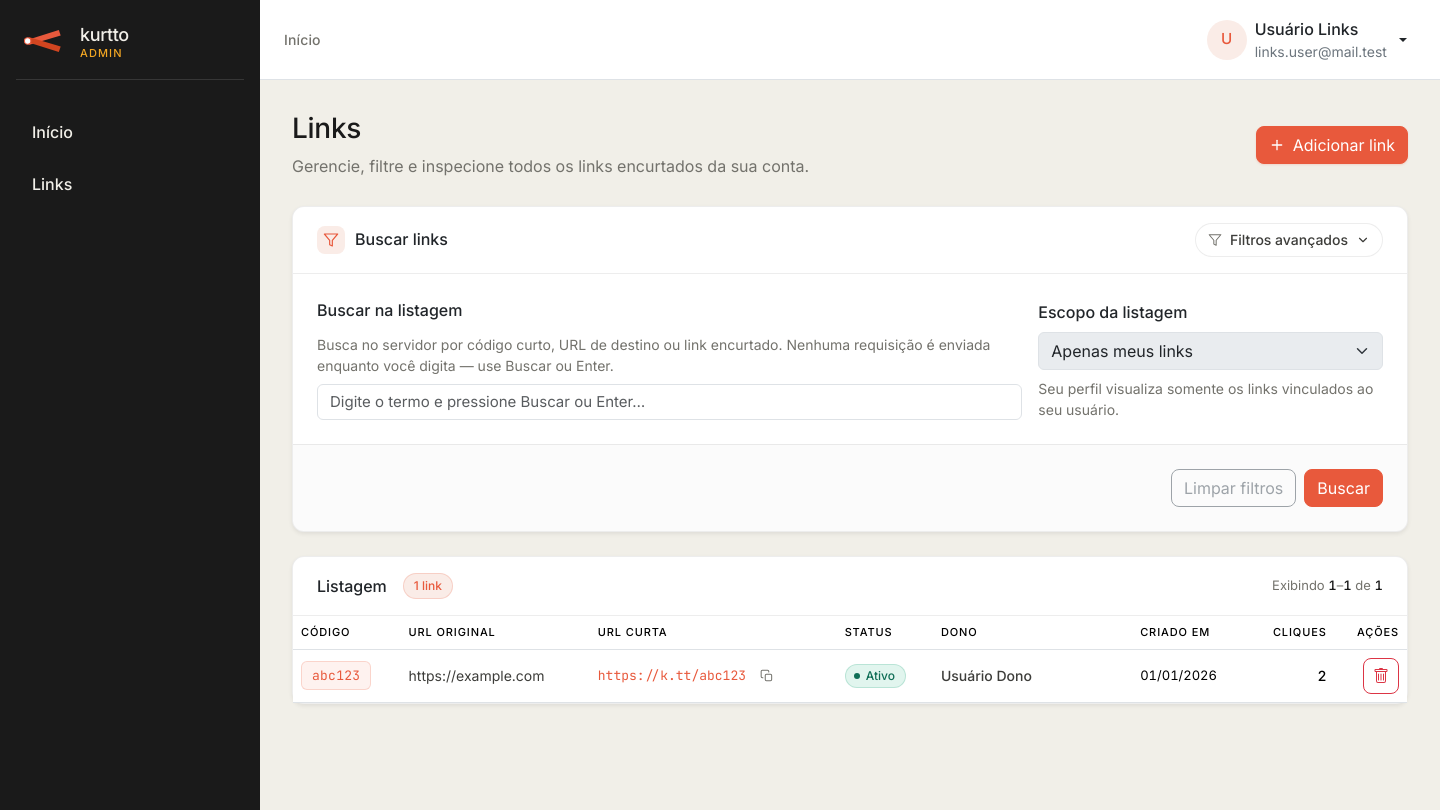
Test: Links › copia a URL curta ao clicar no botão de copiar e exibe feedback de sucesso
Expected: the link "https://example.com" is shown, [409,667,545,684]
Click the button named "copiar url curta https://k.tt/abc123": (767, 676) [754,663,780,689]
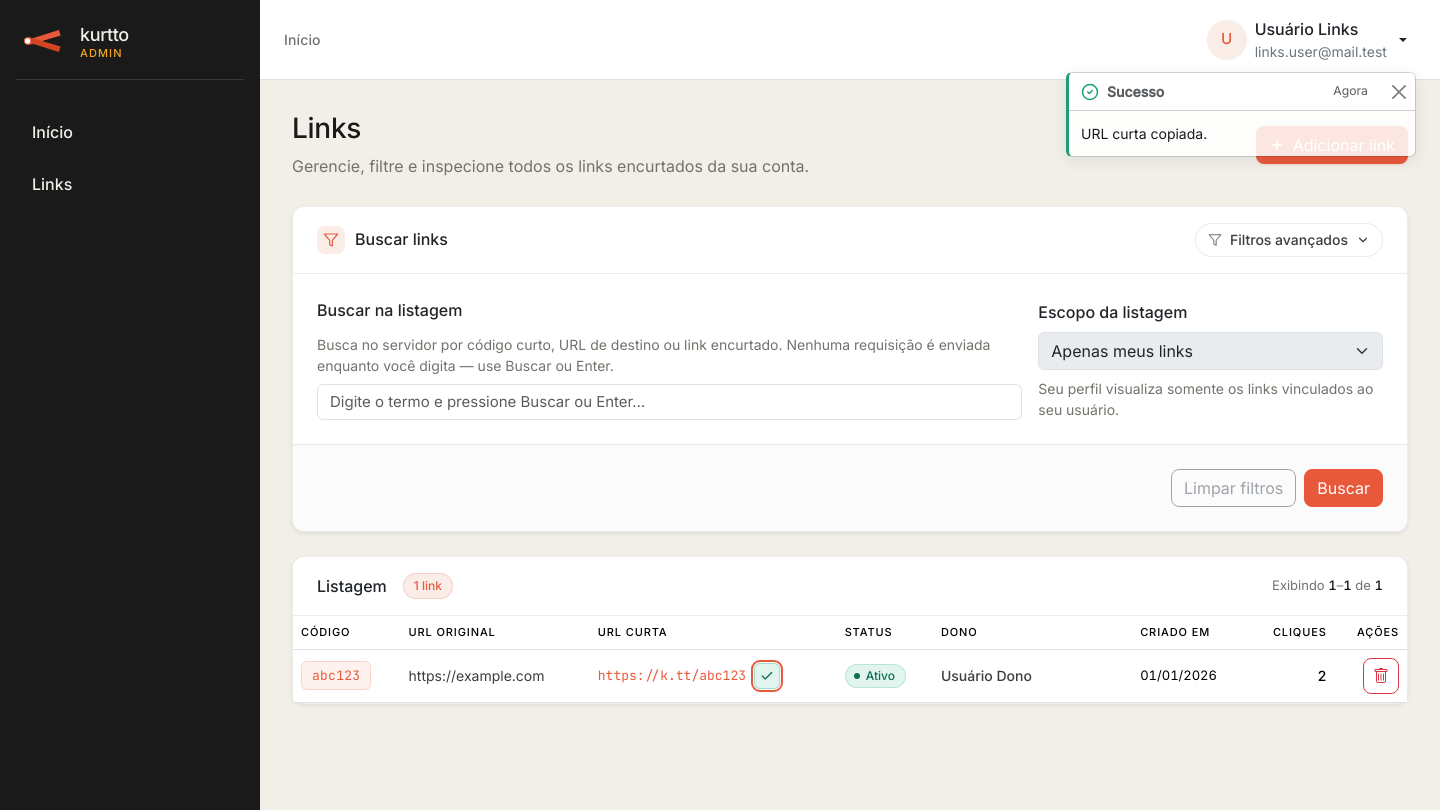
Now the text "URL curta copiada." is shown, box [1081,125,1207,142]
